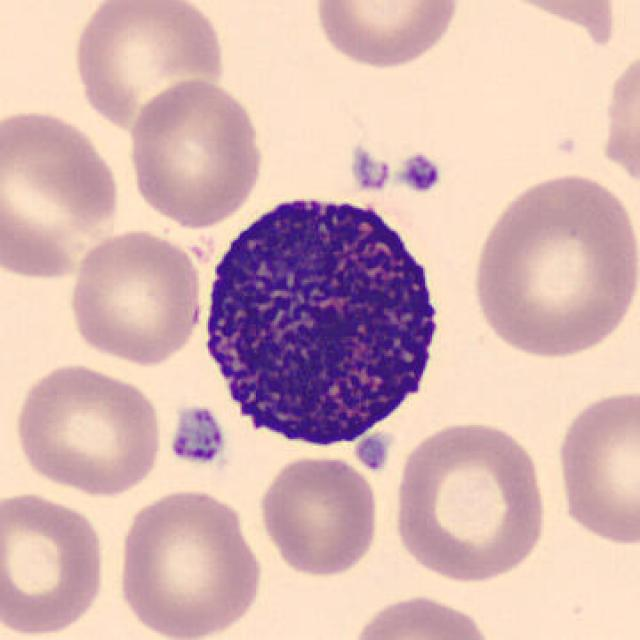basophil: (208, 199, 452, 438)
platelets: (169, 401, 237, 475), (399, 146, 450, 197), (350, 145, 394, 199), (352, 428, 396, 478)
rbc: (475, 173, 638, 361), (396, 430, 549, 593), (118, 487, 269, 638), (118, 78, 260, 231), (0, 104, 123, 280), (14, 361, 159, 501), (83, 0, 233, 129), (68, 236, 212, 358), (262, 463, 396, 580), (0, 483, 100, 631), (563, 387, 640, 557), (311, 1, 464, 76), (346, 599, 497, 640), (608, 55, 640, 191)
